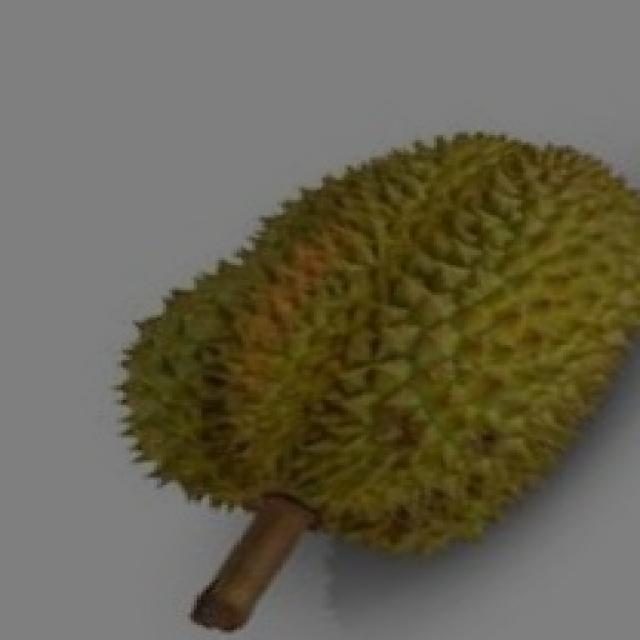fruit: (240, 172, 637, 628), (77, 220, 449, 625)
